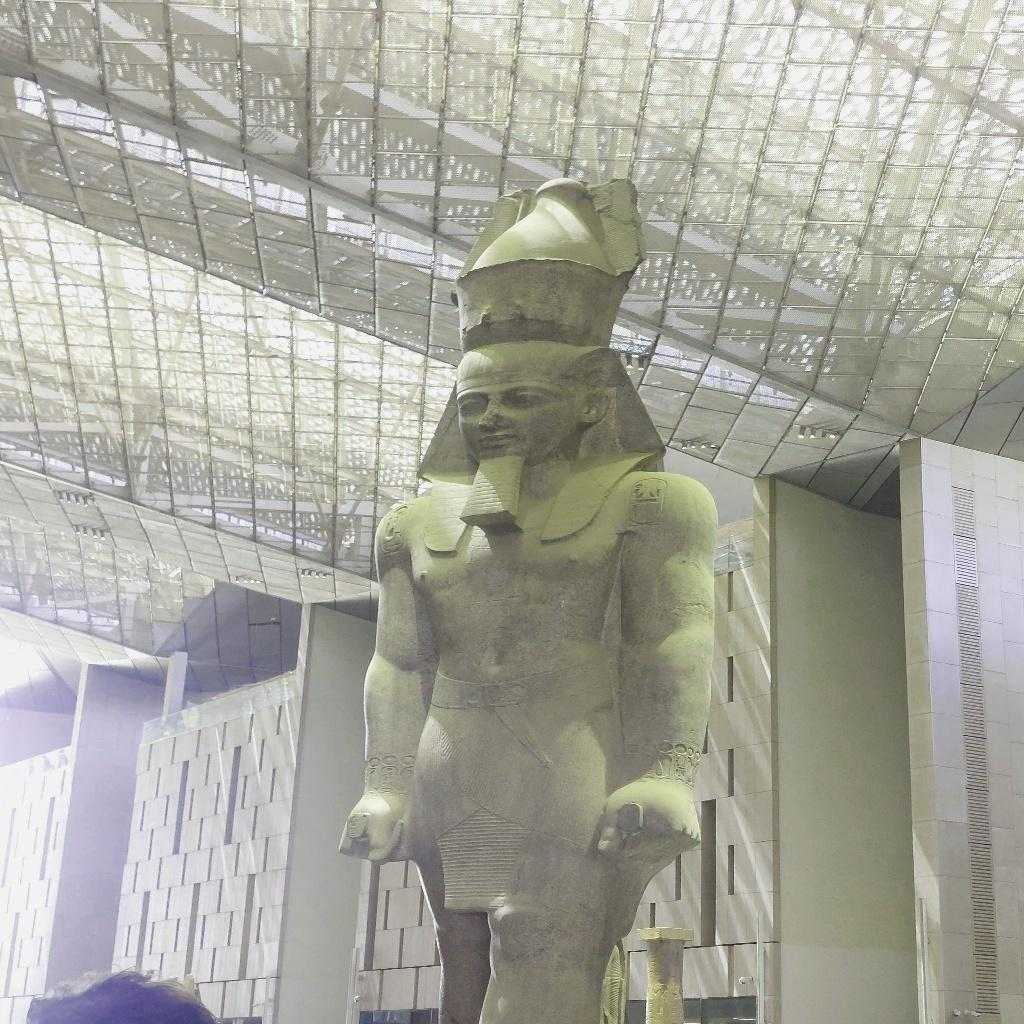Statue of King Ramses II Grand Egyptian Museum: (334, 174, 724, 1021)
